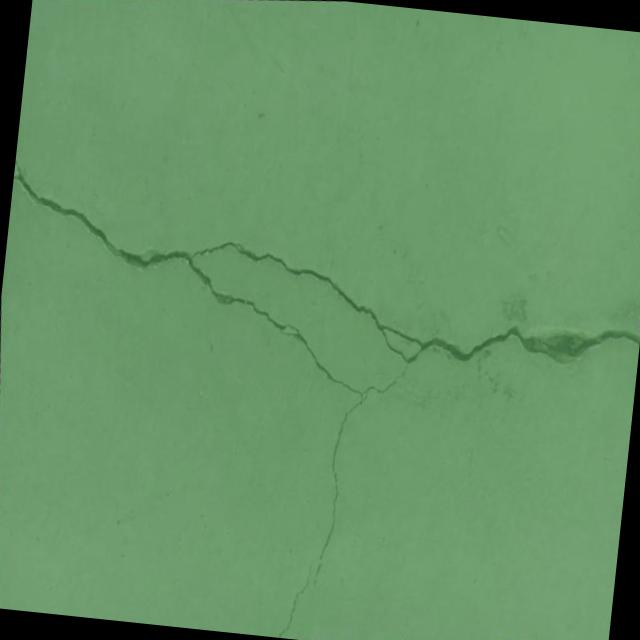crack: (0, 101, 640, 640), (270, 555, 321, 640)
